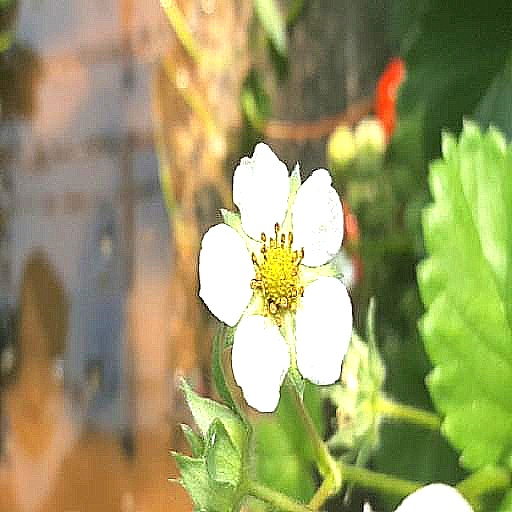Blossom Blight: (246, 219, 308, 329)
